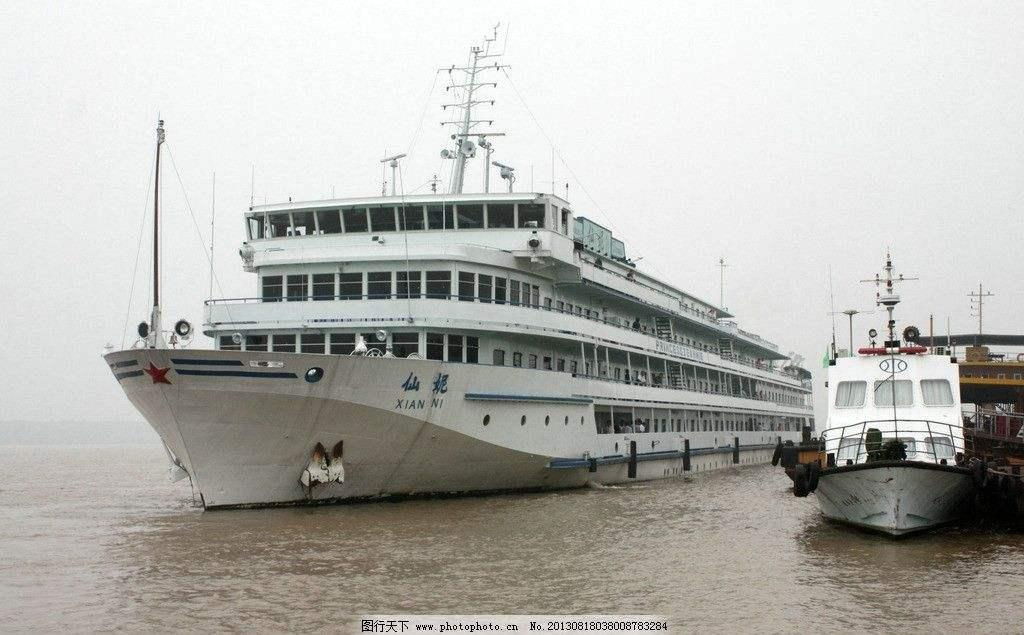yacht: (802, 250, 994, 540)
youlun: (96, 161, 821, 496)
